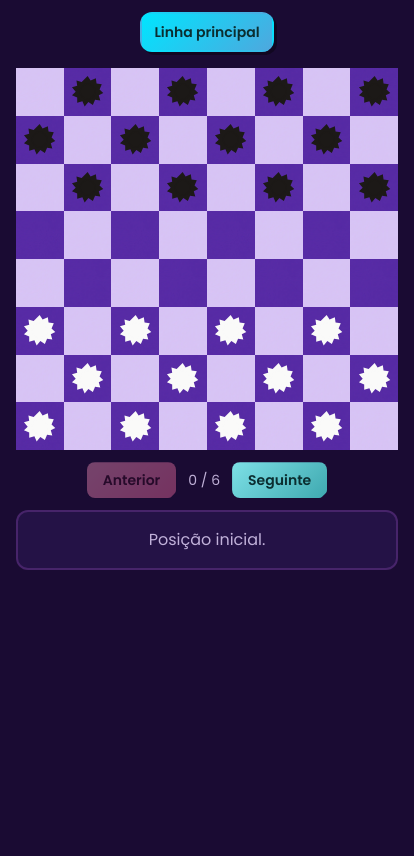
Test case: OpeningStudy › advances one move per "Seguinte" click, with correct move labels
Click the button "Seguinte". click: (280, 480)
box: [232,462,327,498]
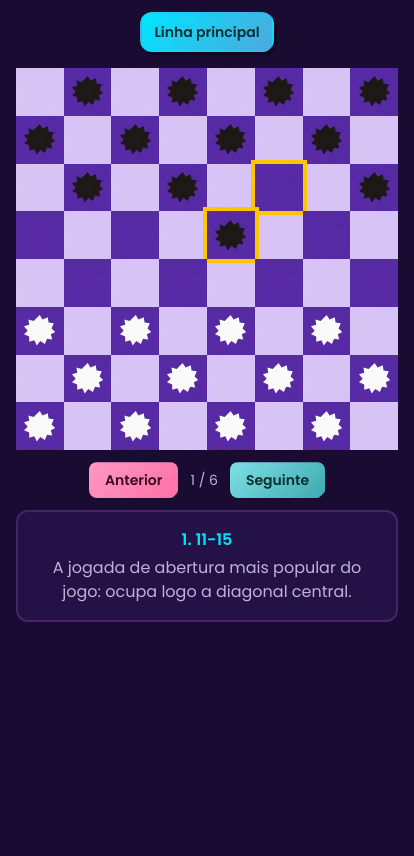
Now the text "1. 11-15" is shown, box [182,528,232,551]
Click the button "Seguinte". click: (277, 480)
box: [230,462,325,498]
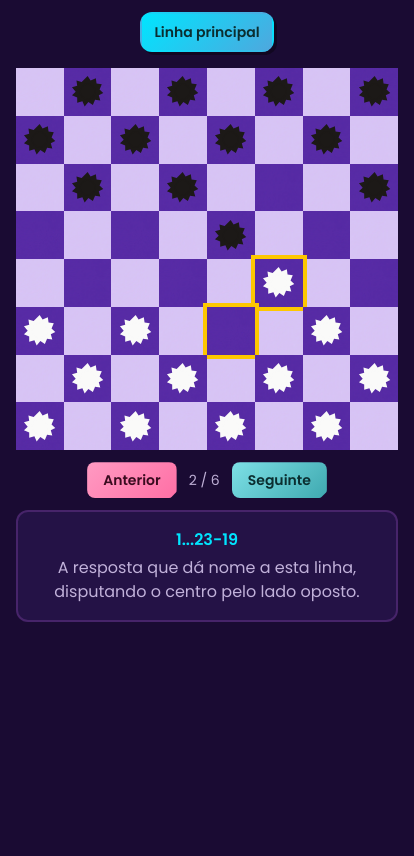
Now the text "1...23-19" is shown, box [176,528,238,551]
